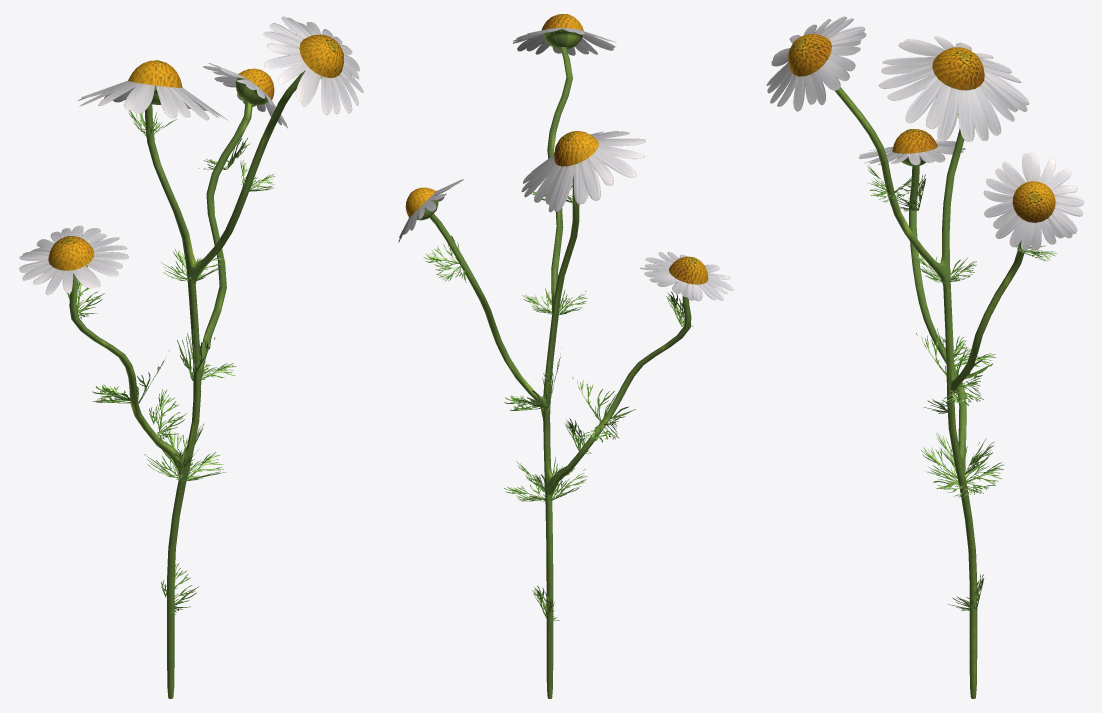
Rendered from Chamomile_grown.fbx.
3 views of the same model, side by side, from view 1: azimuth 30°, elevation 25°; view 2: azimuth 150°, elevation 25°; view 3: azimuth 270°, elevation 25° (orthographic). The views are drawn at different scales.
Parts seen in each view (by area): view 1: group16_pasted__pCylinder4; view 2: group16_pasted__pCylinder4; view 3: group16_pasted__pCylinder4.
Boxes of the visible parts, left/top/right/bottom form: group16_pasted__pCylinder4: left=19, top=16, right=363, bottom=698; group16_pasted__pCylinder4: left=398, top=14, right=734, bottom=698; group16_pasted__pCylinder4: left=766, top=16, right=1084, bottom=698.
Size of the model in its own units: 21.42 by 46.28 by 19.38.
